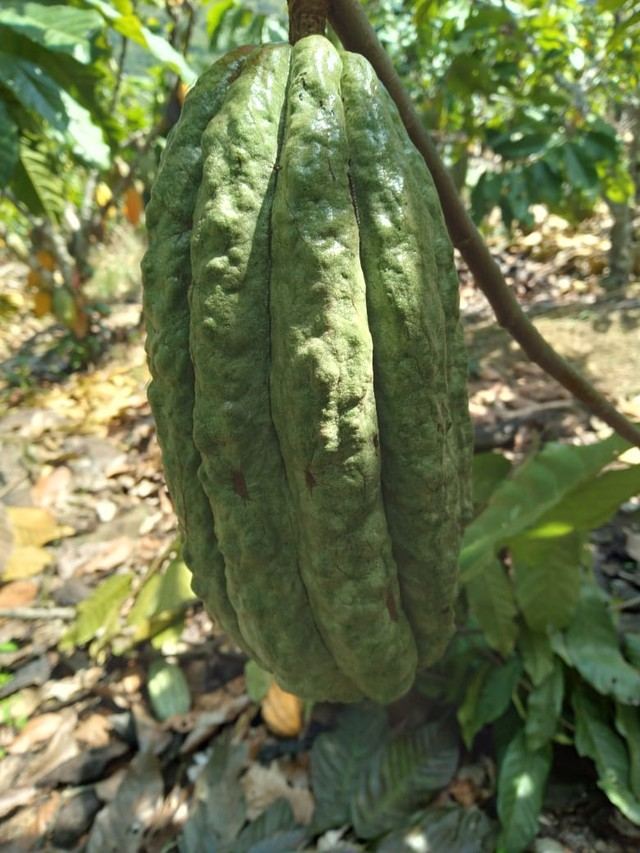Health: (128, 31, 483, 709)
